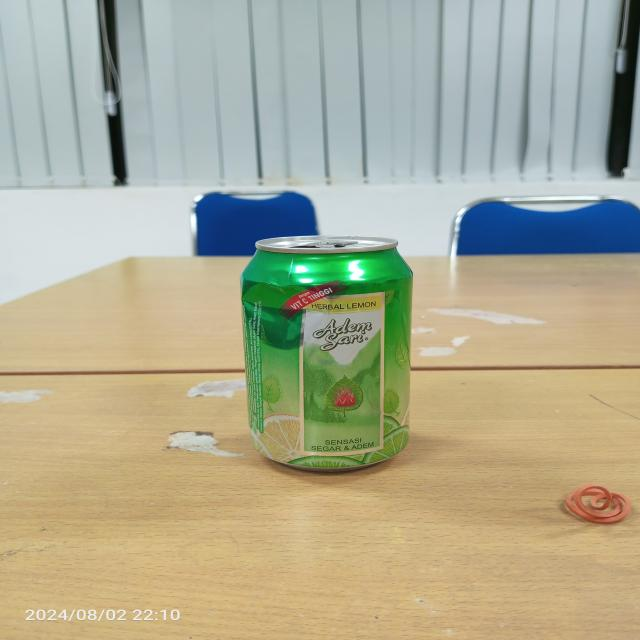ademsarikaleng: (239, 234, 414, 472)
